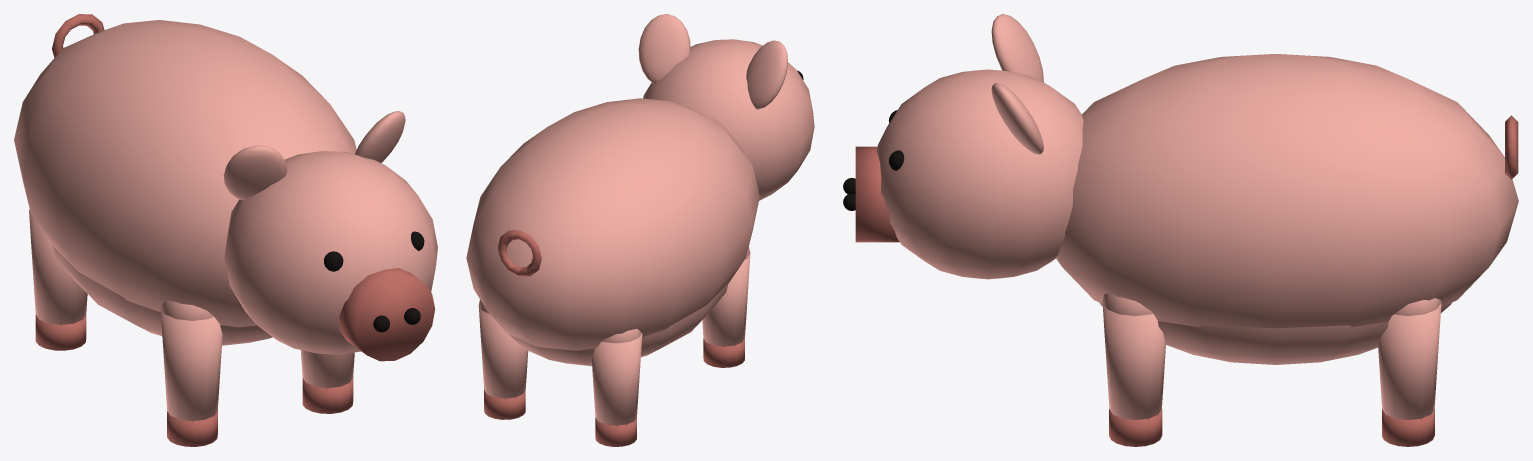
The model's file is pig_pink.glb.
The picture shows the model from 3 angles, left to right: view 1: azimuth 30°, elevation 25°; view 2: azimuth 150°, elevation 25°; view 3: azimuth 270°, elevation 25°; orthographic projection. The views are drawn at different scales.
Parts seen in each view (by area): view 1: Body, Head, LegFL, LegBL, LegFR; view 2: Body, Head, LegBL, LegBR, LegFL; view 3: Body, Head, LegFR, LegBR.
Boxes of the visible parts, box(x1,y1,x2,y2) form: Body: box(14, 14, 356, 345); Head: box(223, 111, 437, 361); LegFL: box(160, 300, 222, 446); LegBL: box(29, 209, 87, 350); LegFR: box(301, 350, 354, 413); Body: box(466, 98, 759, 366); Head: box(638, 14, 814, 200); LegBL: box(591, 329, 642, 446); LegBR: box(478, 299, 528, 419); LegFL: box(702, 246, 750, 367); Body: box(1056, 54, 1518, 364); Head: box(843, 14, 1083, 279); LegFR: box(1102, 293, 1165, 446); LegBR: box(1378, 298, 1441, 446).
Bounding box in the file's own units: 0.44 × 0.5298 × 0.917.
